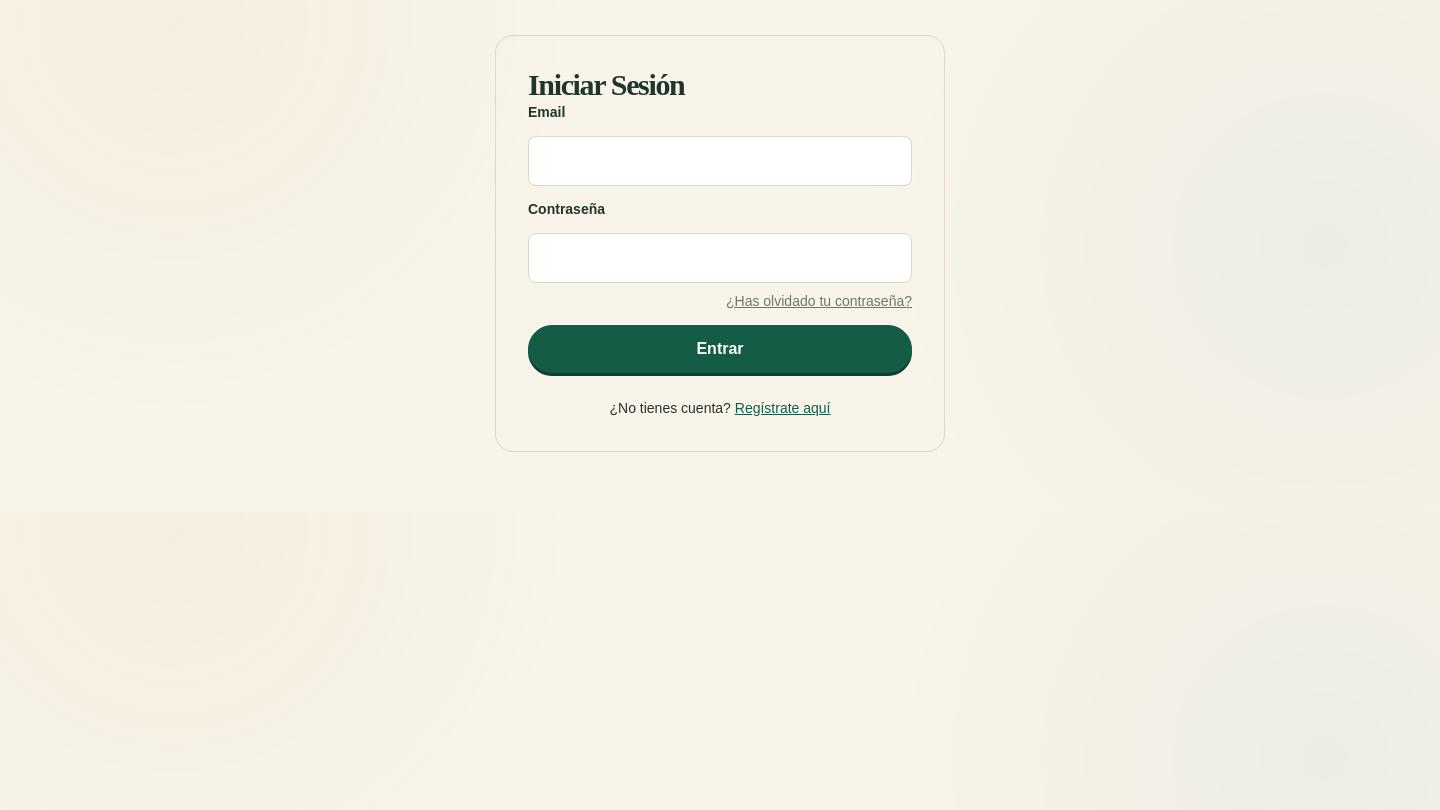
Test: Login Page › shows loading state during login
Fill form
Type "test@example.com" into the field labelled "Email" at {"x": 720, "y": 161}, box x1=528 y1=136 x2=912 y2=186
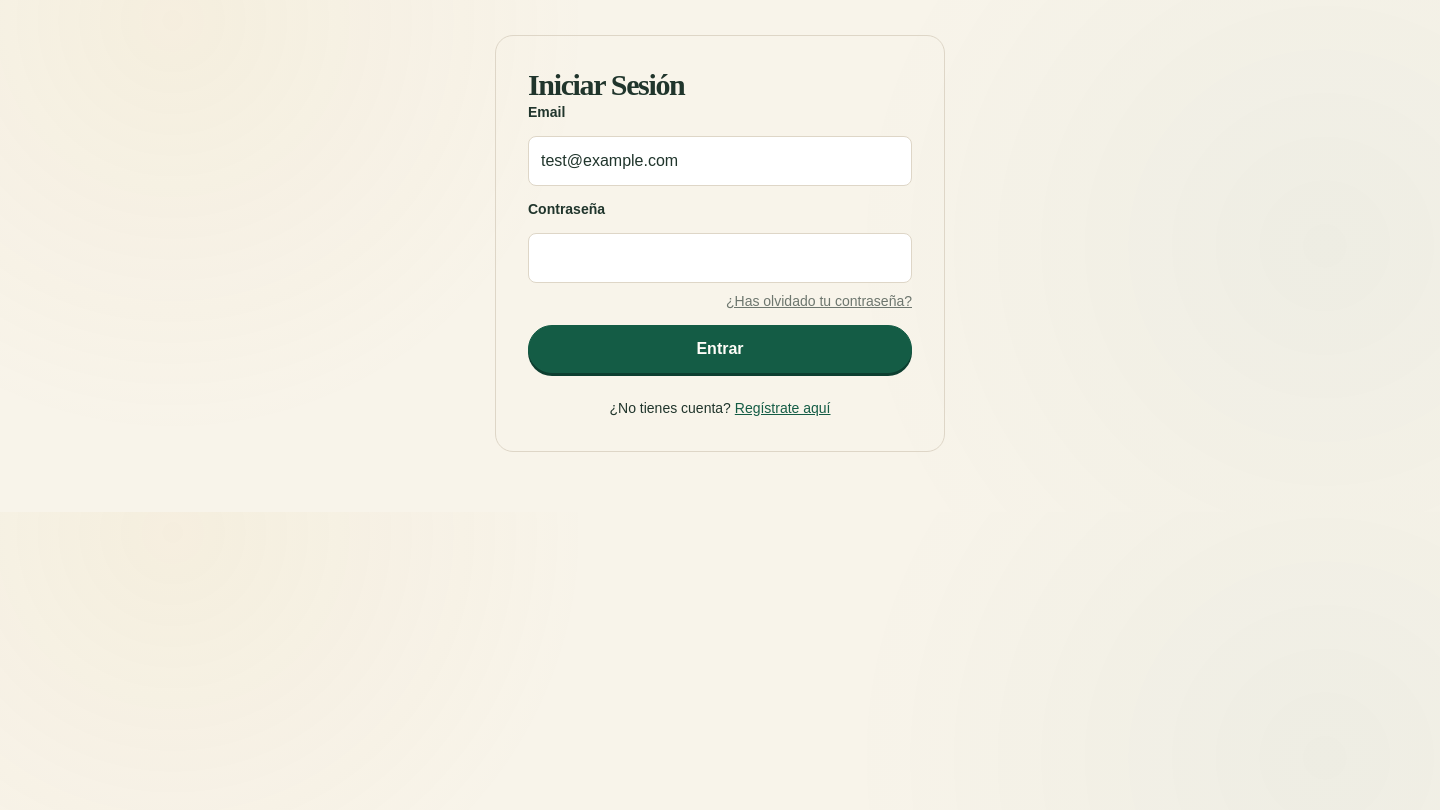
Type "password123" into the password field labelled "Contraseña" at {"x": 720, "y": 258}, box x1=528 y1=233 x2=912 y2=283
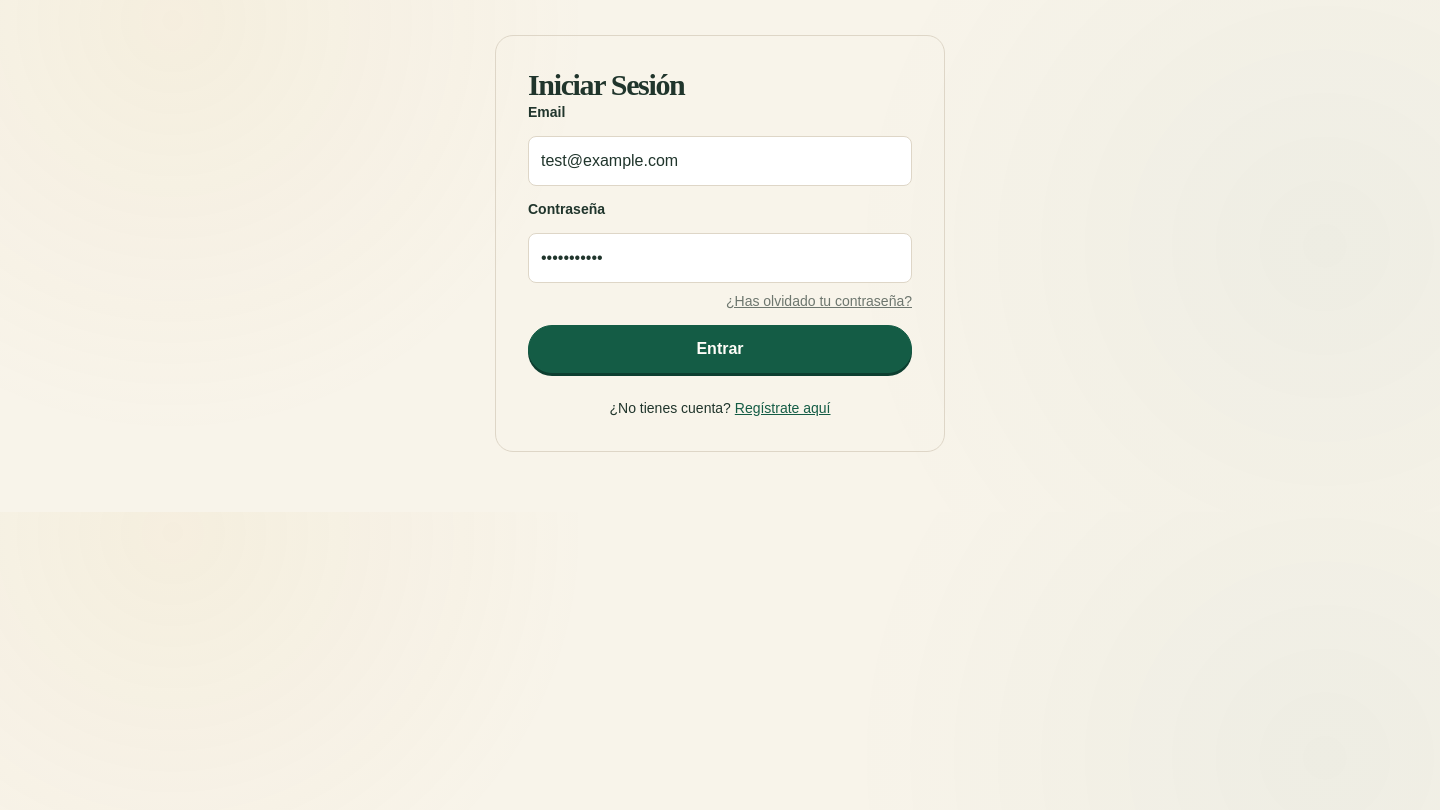
Submit form
Click the button "Entrar" at {"x": 720, "y": 349}, box x1=528 y1=325 x2=912 y2=373
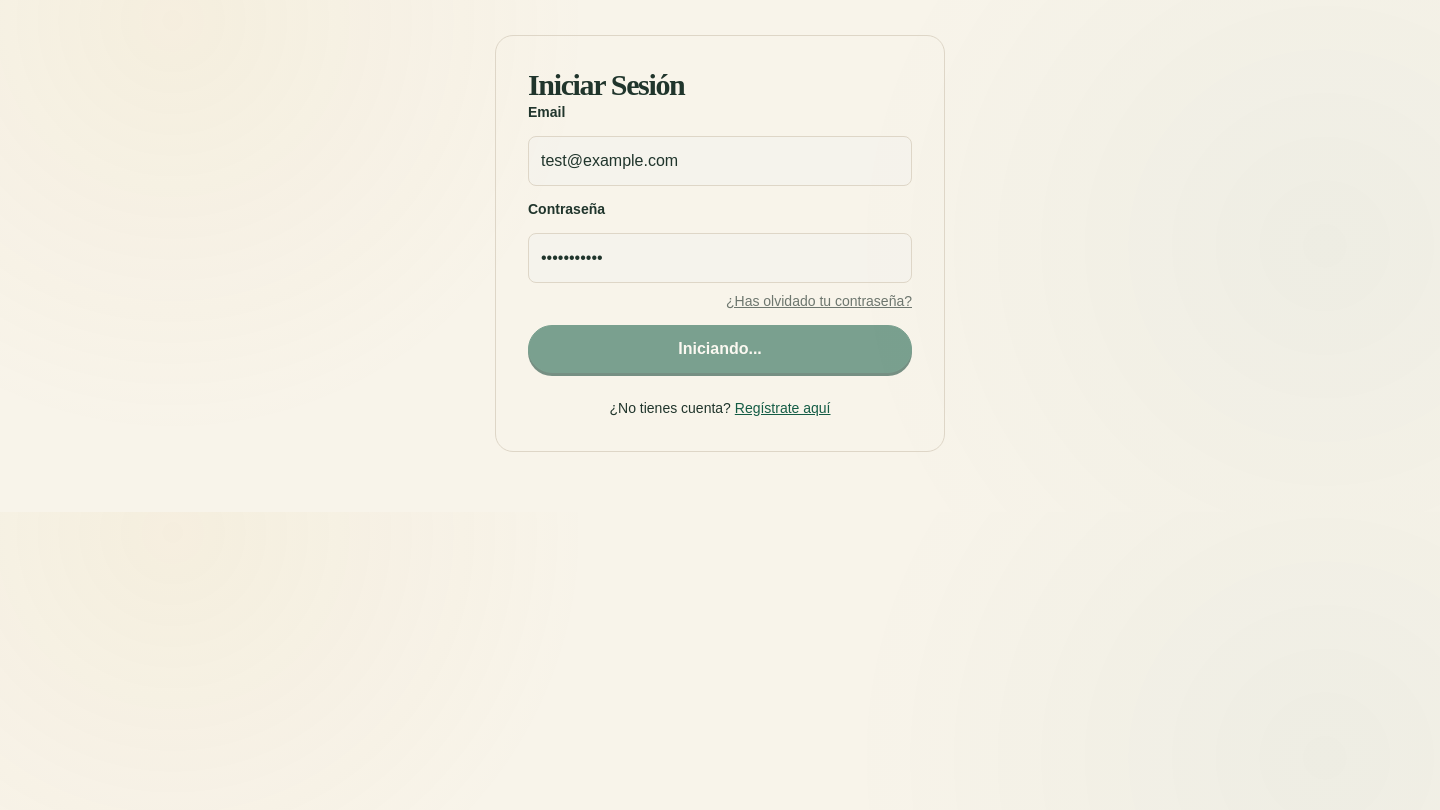
expect the field labelled "Email" is disabled: met, box x1=528 y1=136 x2=912 y2=186
expect the button "Iniciando..." is shown: met, box x1=528 y1=325 x2=912 y2=373
